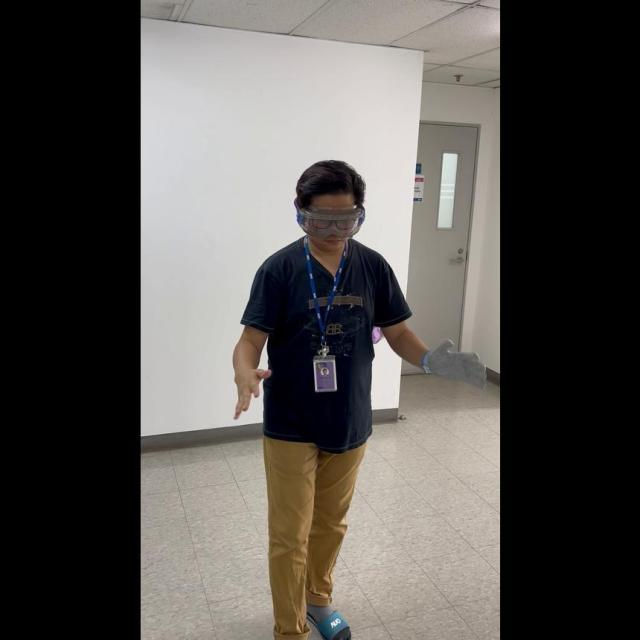bare_hand: (229, 359, 270, 420)
gloved_hand: (420, 333, 484, 388)
